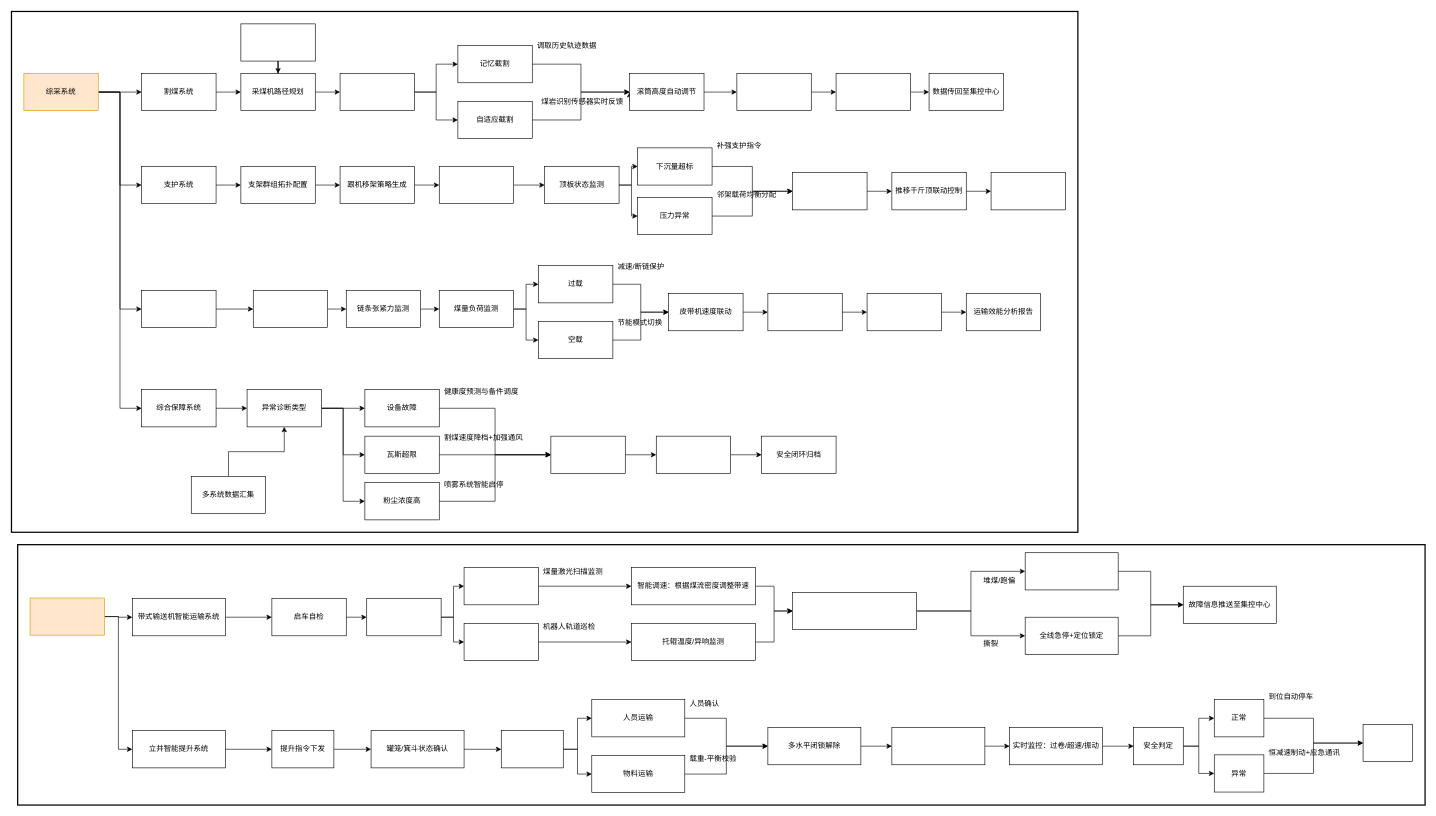
Some shapes in this 1436 by 816 pixel diagram are drawn without their labels. The box of each missing label's shape, as (x1, y1, x2, y2) in pixels:
主运输系统: (29, 597, 104, 635)
刮板机启停控制: (253, 290, 328, 328)
割煤模式选择: (339, 73, 414, 111)
压力自适应调整: (439, 166, 514, 204)
地质模型导入: (240, 23, 315, 61)
处置效果验证: (656, 436, 731, 473)
局部停机+声光报警: (1025, 552, 1118, 590)
巡检模式选择: (366, 598, 441, 636)
常态运行: (463, 567, 538, 605)
应急指令下发: (550, 436, 625, 473)
异常判断: (792, 592, 917, 630)
循环动作完成确认: (990, 172, 1065, 210)
提升模式选择: (501, 730, 563, 768)
支架姿态纠偏: (792, 172, 867, 210)
日志记录: (1362, 724, 1413, 762)
检修模式: (463, 623, 538, 661)
煤仓料位预警: (866, 293, 941, 331)
煤流均衡分配: (767, 293, 842, 331)
煤量扫描成像: (835, 73, 910, 111)
牵引速度协同控制: (736, 73, 811, 111)
运输系统: (141, 290, 216, 328)
速度曲线优化: (891, 727, 985, 765)
